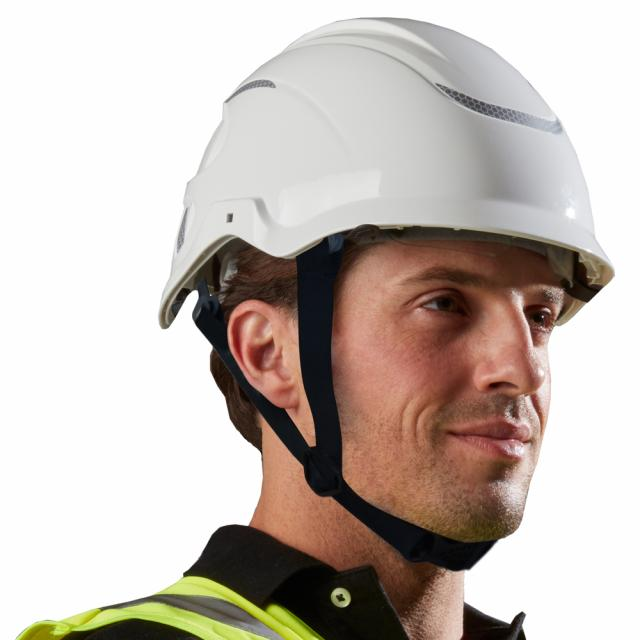Reflective-Jacket: (0, 562, 422, 639)
Safety-Helmet: (159, 16, 618, 333)
